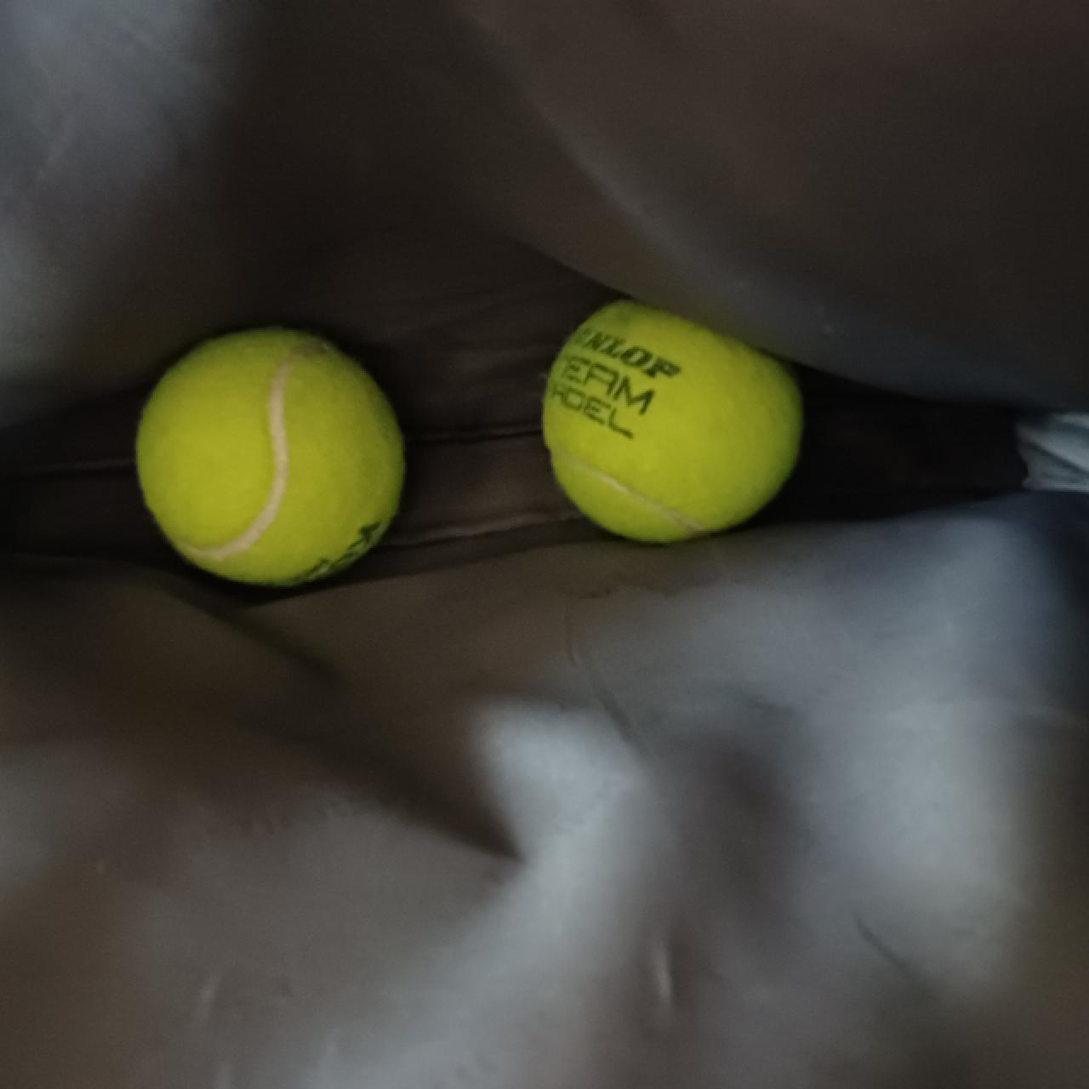tennis-ball: (133, 326, 408, 583), (541, 294, 803, 547)
